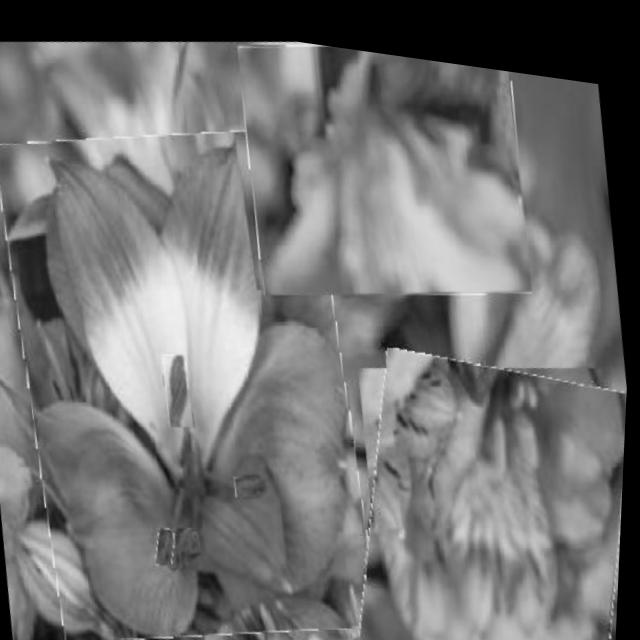Flower: (0, 84, 399, 640), (335, 309, 631, 640), (229, 26, 543, 318), (163, 346, 199, 424), (158, 522, 182, 564), (237, 467, 264, 493), (178, 520, 201, 549)
